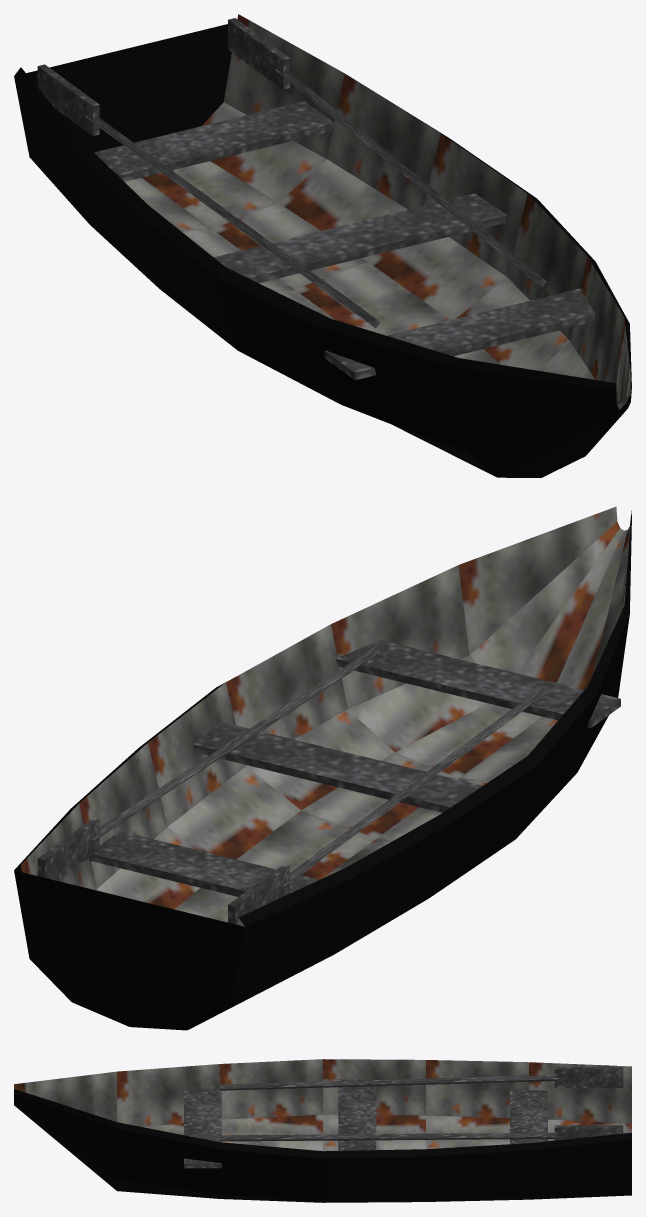
Rendered from SM_rowboat.fbx.
The picture shows the model from 3 angles, top to bottom: view 1: azimuth 30°, elevation 25°; view 2: azimuth 150°, elevation 25°; view 3: azimuth 270°, elevation 25°; orthographic projection. The views are drawn at different scales.
Visible parts, largest first — view 1: rowboat; view 2: rowboat; view 3: rowboat.
Boxes of the visible parts, left/top/right/bottom form: rowboat: left=14, top=14, right=631, bottom=477; rowboat: left=14, top=506, right=631, bottom=1030; rowboat: left=14, top=1059, right=631, bottom=1202.
Bounding box in the file's own units: 1.35 × 0.63 × 3.6.
